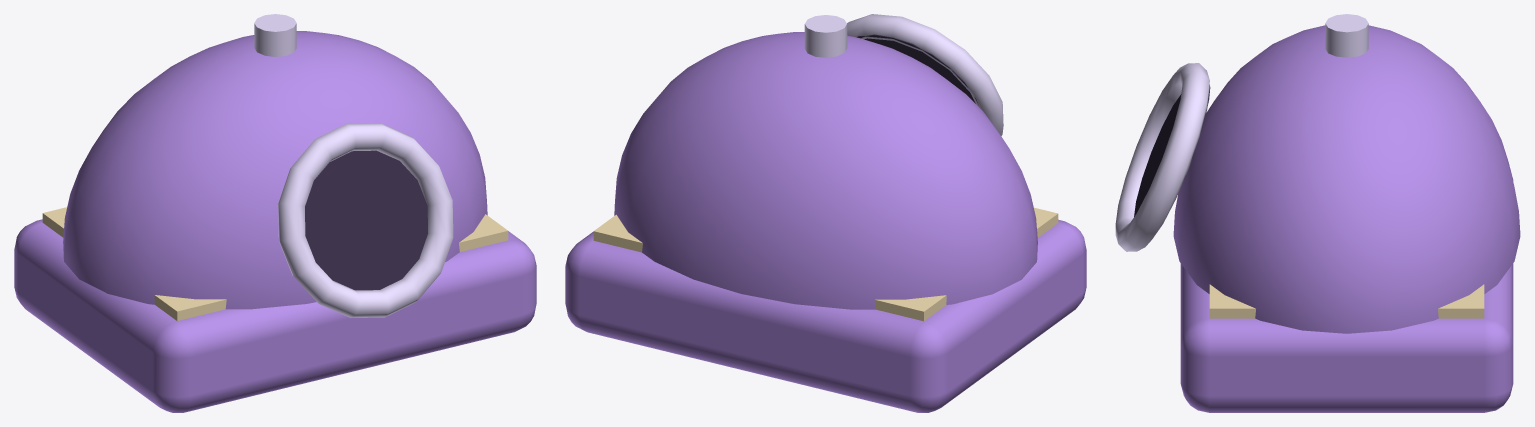
The model's file is litter-hood.glb.
3 renders of one model, left to right at view 1: azimuth 30°, elevation 25°; view 2: azimuth 150°, elevation 25°; view 3: azimuth 270°, elevation 25°, orthographic. The views are drawn at different scales.
Bounding box in the file's own units: 0.64 × 0.465 × 0.5603.
